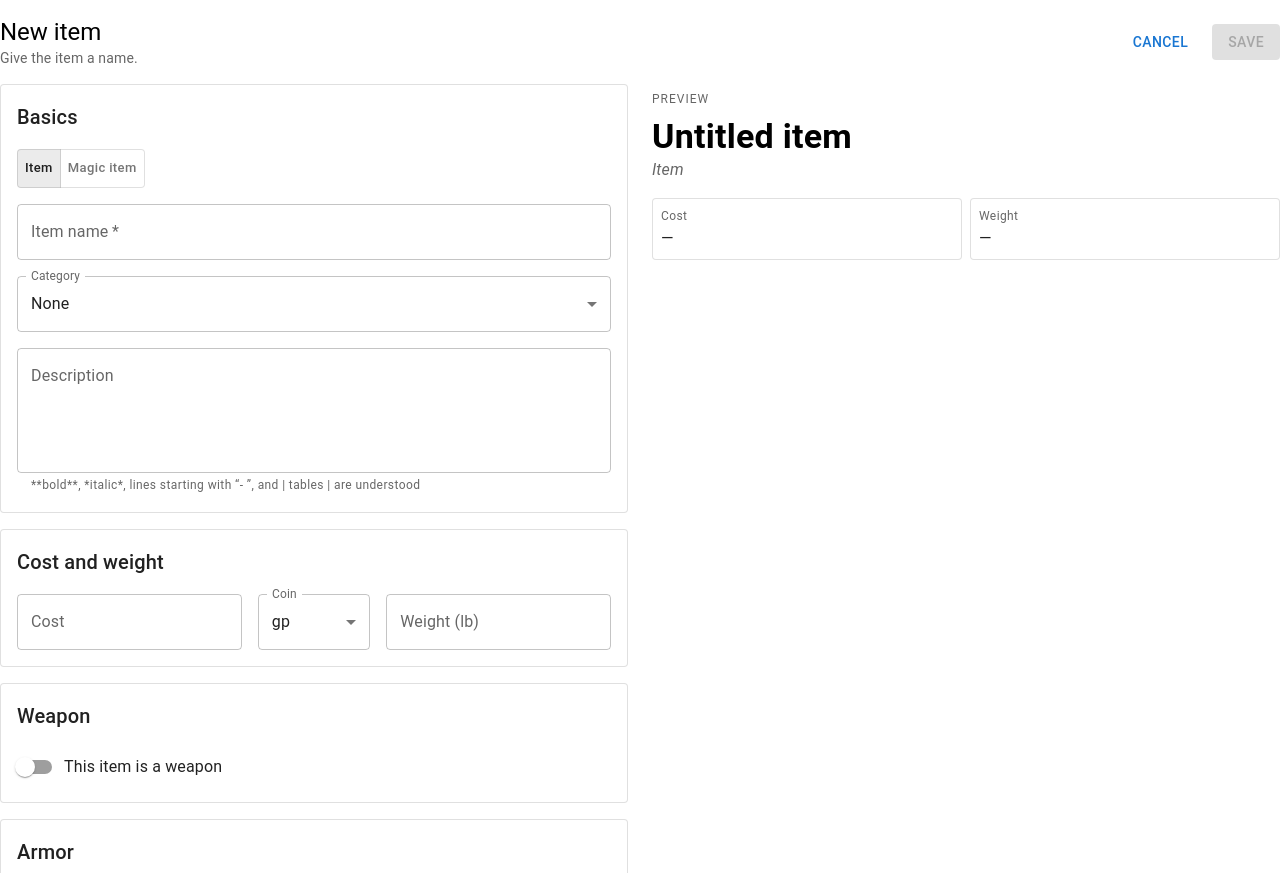
it: weapons › can have masteries too, and a property can be taken off again
The image size is (1280, 873).
Click the checkbox labelled "This item is a weapon" at [119, 767], box [15,757,222,777]
(page scrolled)
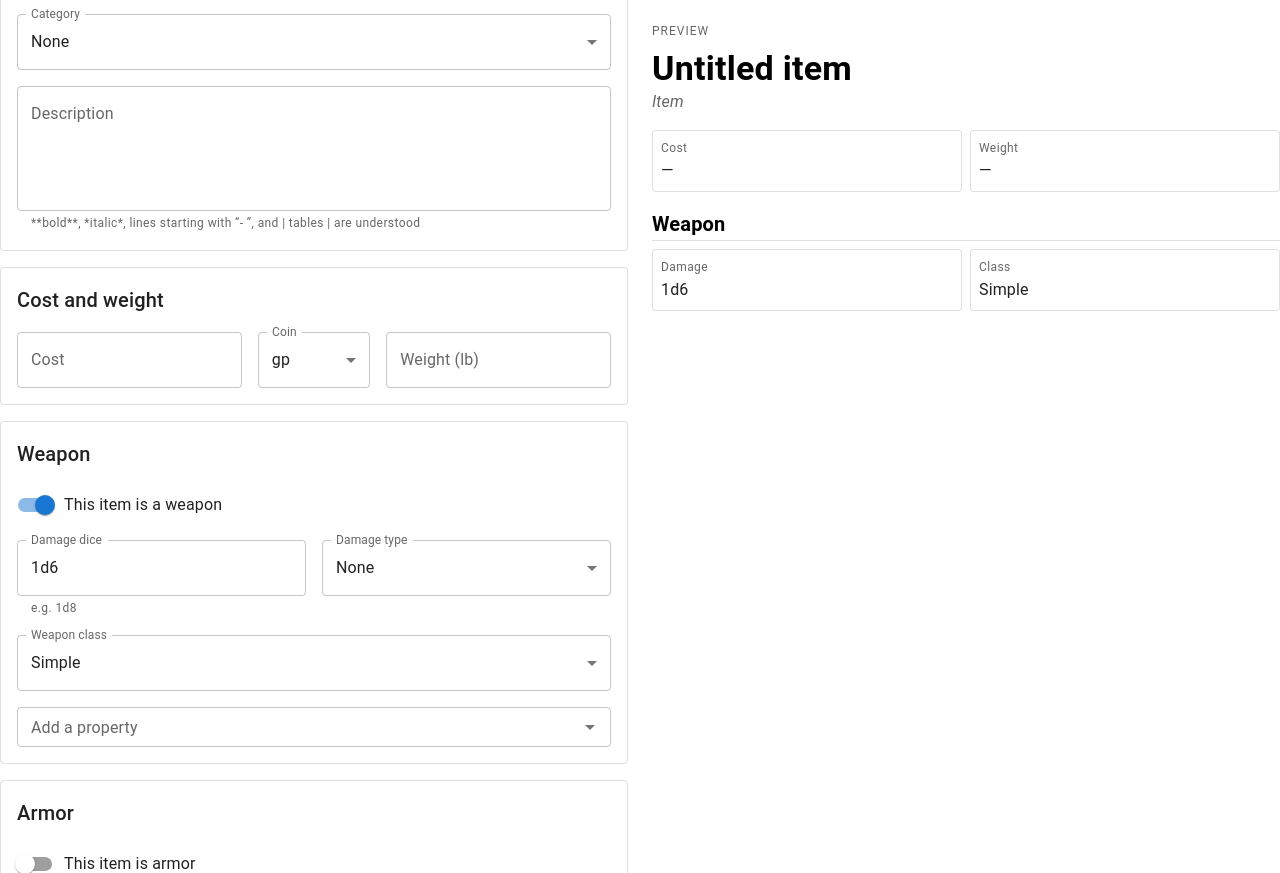
Press ArrowDown in the dropdown labelled "Add a property", box [23,713,572,741]
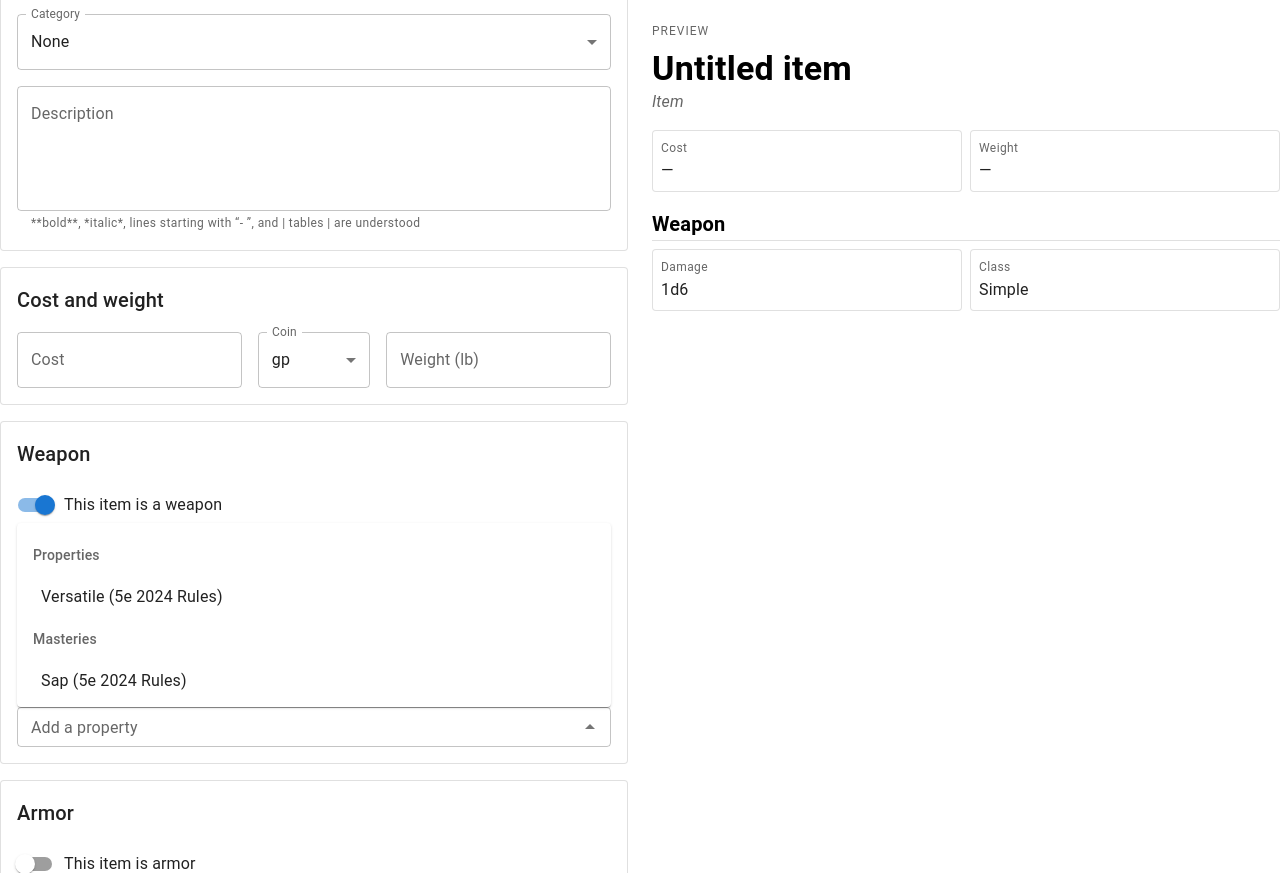
Click the option "Sap (5e 2024 Rules)" at [114, 680], box [41,671,187,690]
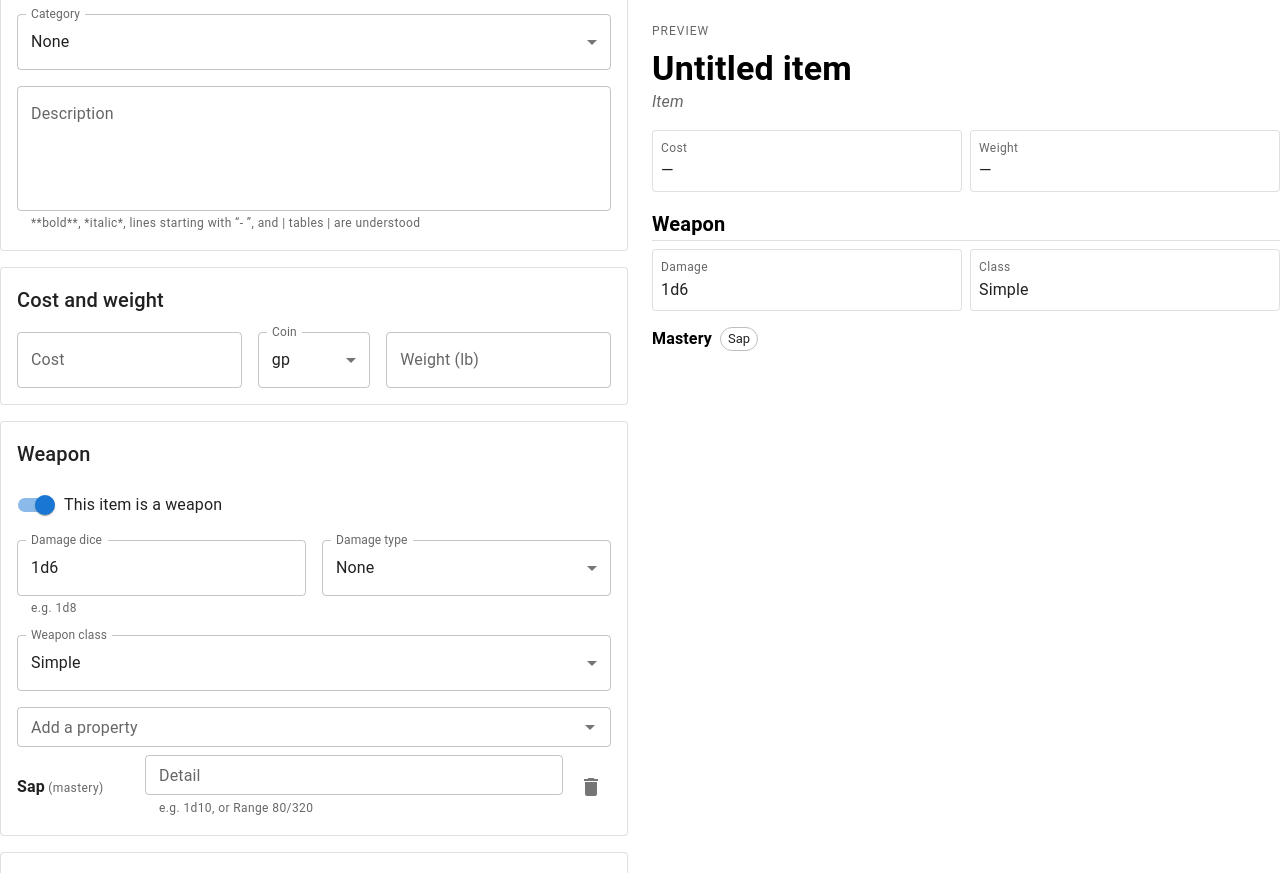
Expected: the element named "Sap mastery" is shown, [17,755,611,818]
Expected: the element "Mastery" is shown, [652,327,758,351]
Click the button named "Remove Sap" at [591, 786], box [571,766,611,806]
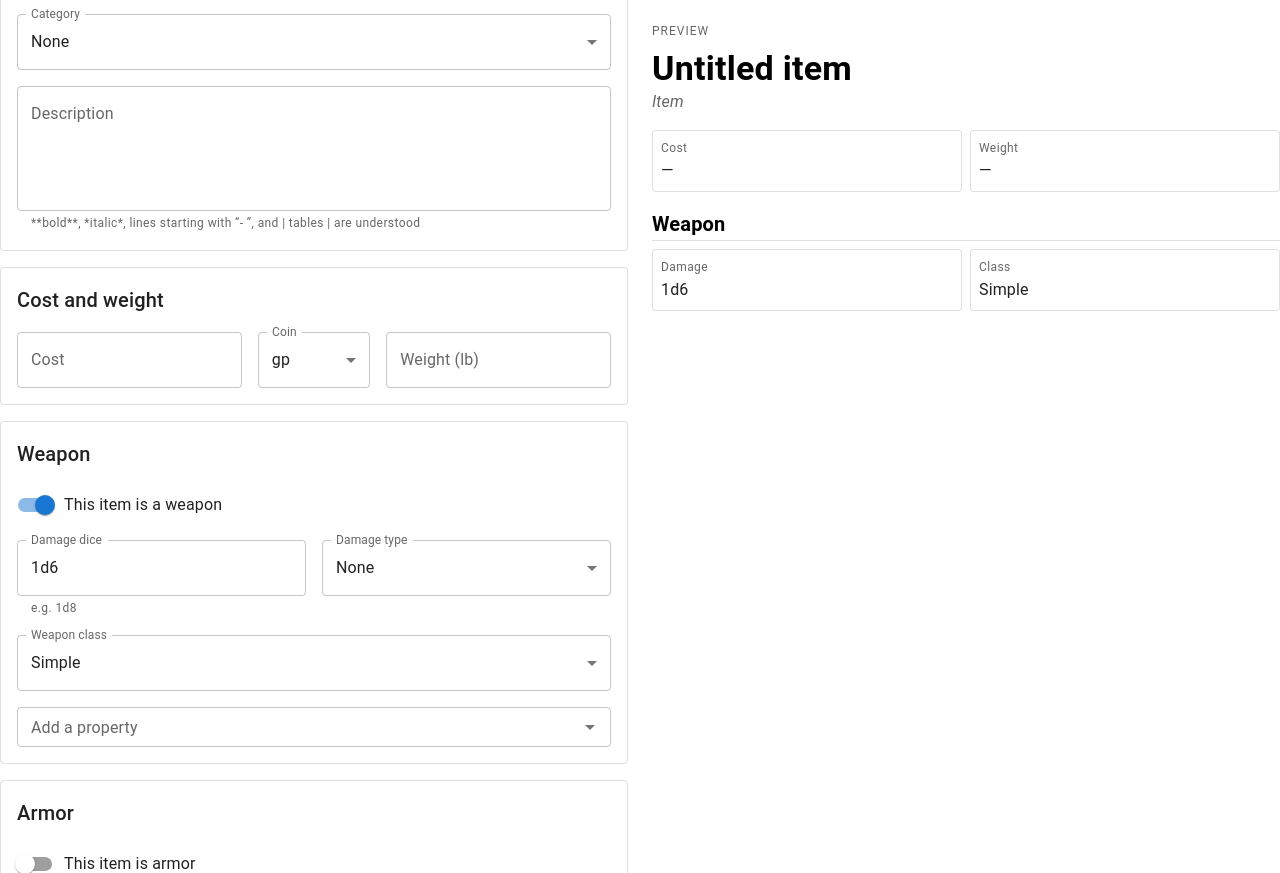
Expected: the element "Sap mastery" is gone
